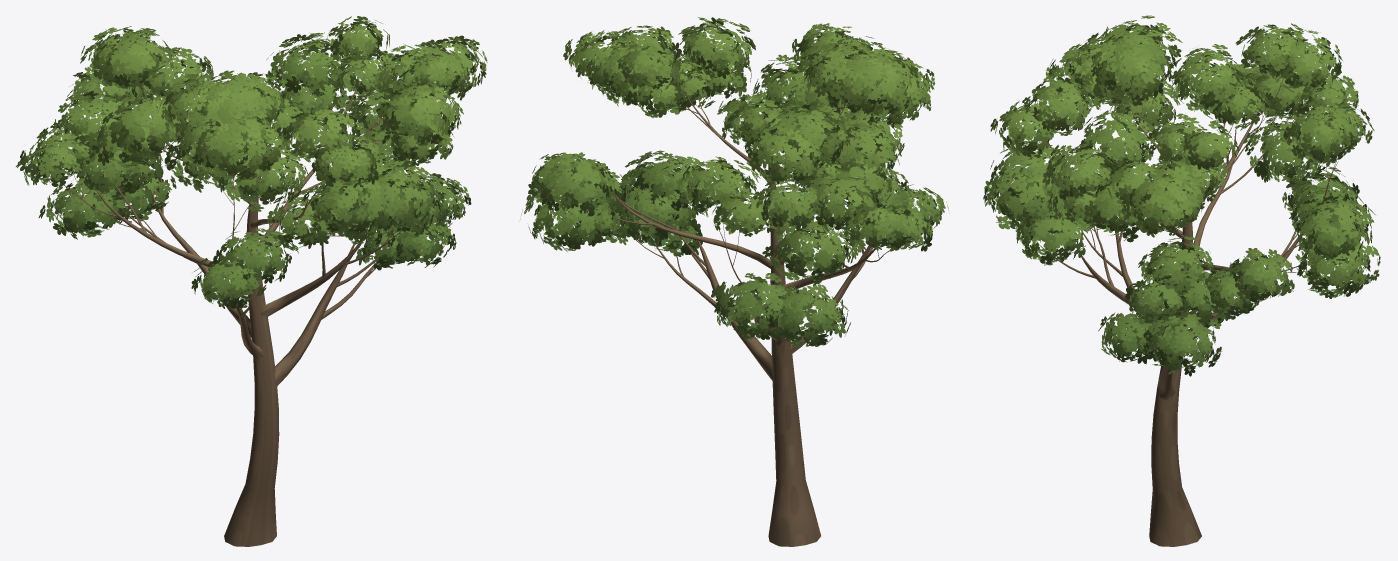
The model's file is tree.gltf.
The picture shows the model from 3 angles, left to right: view 1: azimuth 30°, elevation 25°; view 2: azimuth 150°, elevation 25°; view 3: azimuth 270°, elevation 25°; orthographic projection.
Parts seen in each view (by area): view 1: Tree_LOD0; view 2: Tree_LOD0; view 3: Tree_LOD0.
Part boxes in pixels (<box>): Tree_LOD0: <box>16,16,487,546</box>; Tree_LOD0: <box>520,17,948,546</box>; Tree_LOD0: <box>983,15,1380,546</box>.
Size of the model in its own units: 19.2 by 21.6 by 16.13.
Materials: 2 (2 with a texture image).
